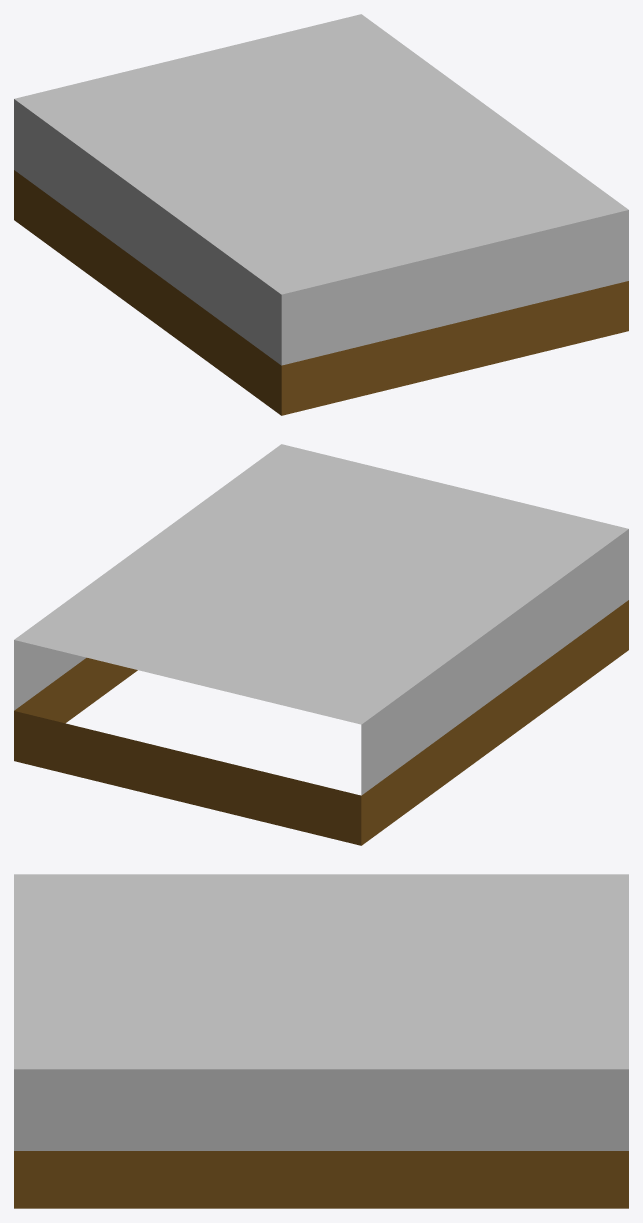
Rendered from bed.fbx.
The picture shows the model from 3 angles, top to bottom: view 1: azimuth 30°, elevation 25°; view 2: azimuth 150°, elevation 25°; view 3: azimuth 270°, elevation 25°; orthographic projection. The views are drawn at different scales.
Parts seen in each view (by area): view 1: bed; view 2: bed; view 3: bed.
Part boxes in pixels (x1,y1,x2,y2): bed: [14, 14, 628, 415]; bed: [14, 444, 628, 845]; bed: [14, 874, 628, 1208].
Size of the model in its own units: 1.5 by 0.5 by 2.
